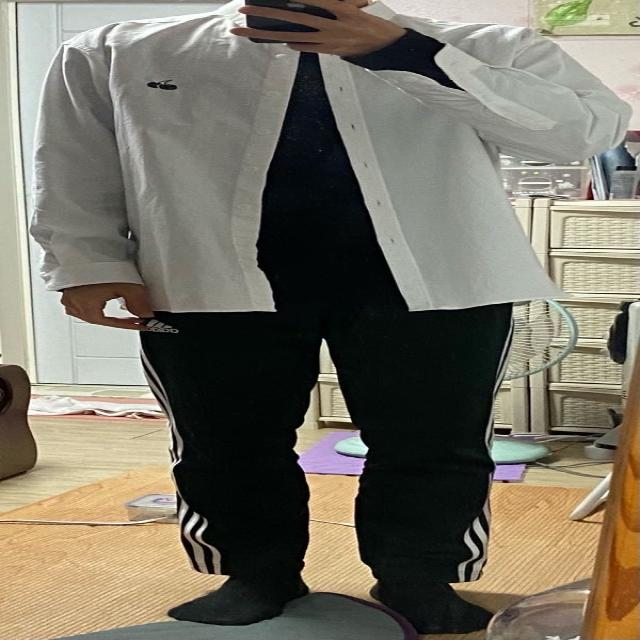shirt: (29, 5, 634, 314)
trainingpants: (144, 299, 520, 595)
